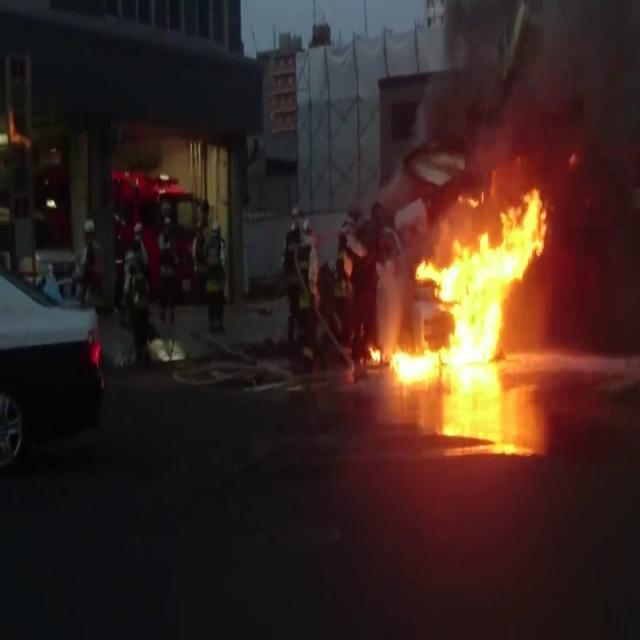Fire: (442, 239, 504, 365), (492, 186, 554, 286), (416, 235, 468, 302), (391, 342, 442, 382), (457, 185, 485, 209), (369, 344, 381, 362)
Smoke: (418, 0, 640, 146), (553, 147, 640, 346), (467, 147, 553, 185), (507, 287, 554, 352)
